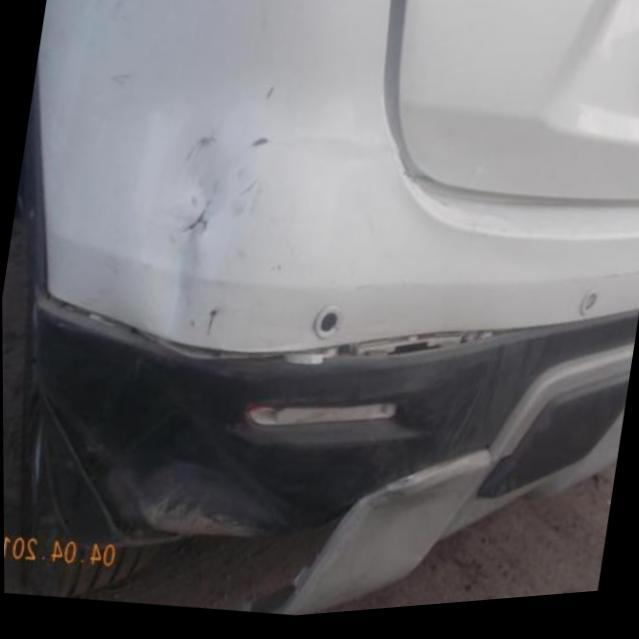crack: (173, 126, 219, 177), (175, 202, 217, 239), (229, 174, 266, 209), (242, 136, 271, 161), (257, 84, 275, 111)
dent: (147, 240, 199, 340)
dislocated part: (30, 287, 541, 379)
no part: (117, 461, 296, 540)
